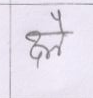ai_matra: (50, 10, 69, 32)
